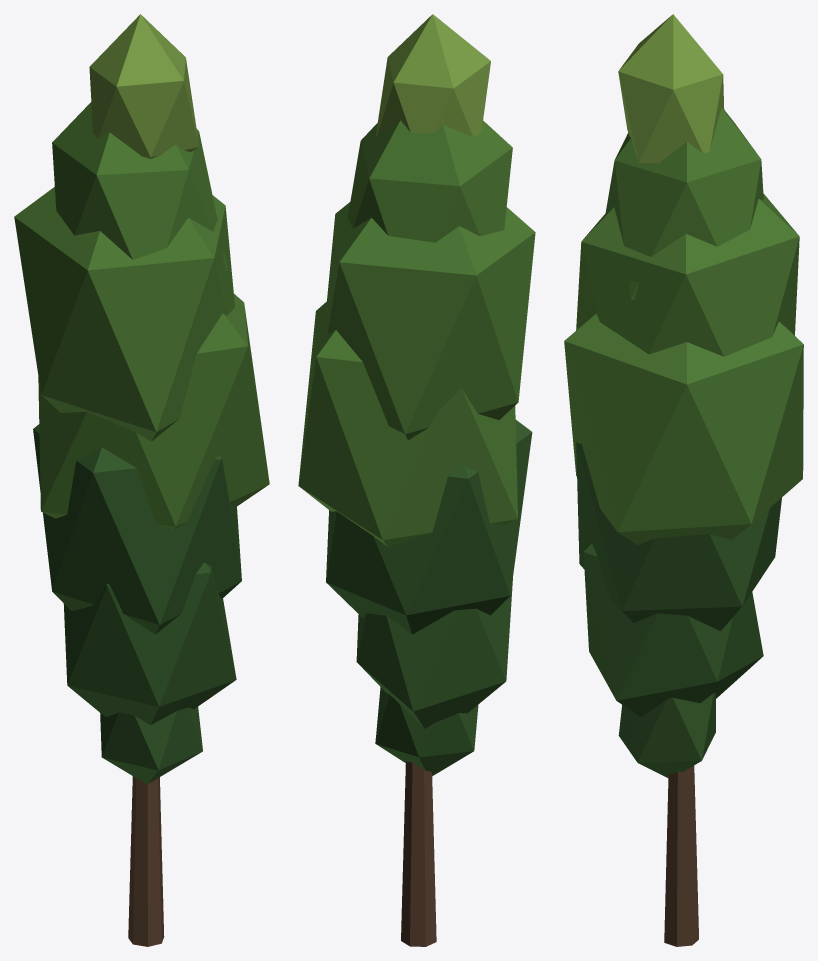
Rendered from UM_Pappel.fbx.
The picture shows the model from 3 angles, left to right: view 1: azimuth 30°, elevation 25°; view 2: azimuth 150°, elevation 25°; view 3: azimuth 270°, elevation 25°; orthographic projection.
Visible parts, largest first — view 1: UM_Pappel; view 2: UM_Pappel; view 3: UM_Pappel.
Boxes of the visible parts, x1=… form: UM_Pappel: x1=14, y1=14, x2=269, y2=946; UM_Pappel: x1=298, y1=14, x2=535, y2=946; UM_Pappel: x1=564, y1=14, x2=803, y2=946.
Bounding box in the file's own units: 3.05 × 13.34 × 3.15.
